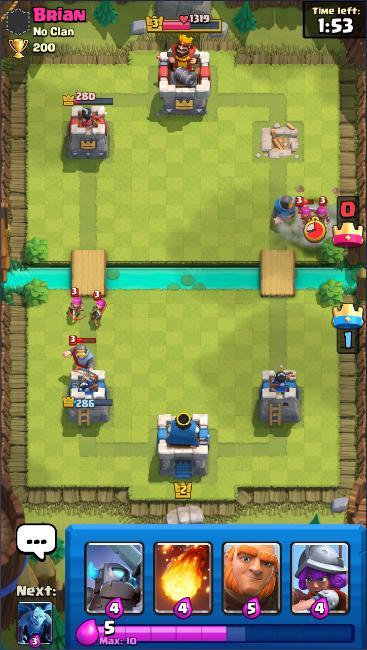ally_knight: (270, 192, 300, 235)
enemy_archer: (85, 288, 111, 328), (64, 285, 89, 325), (311, 194, 333, 231), (295, 195, 318, 229)
enemy_knight: (61, 334, 100, 380)
